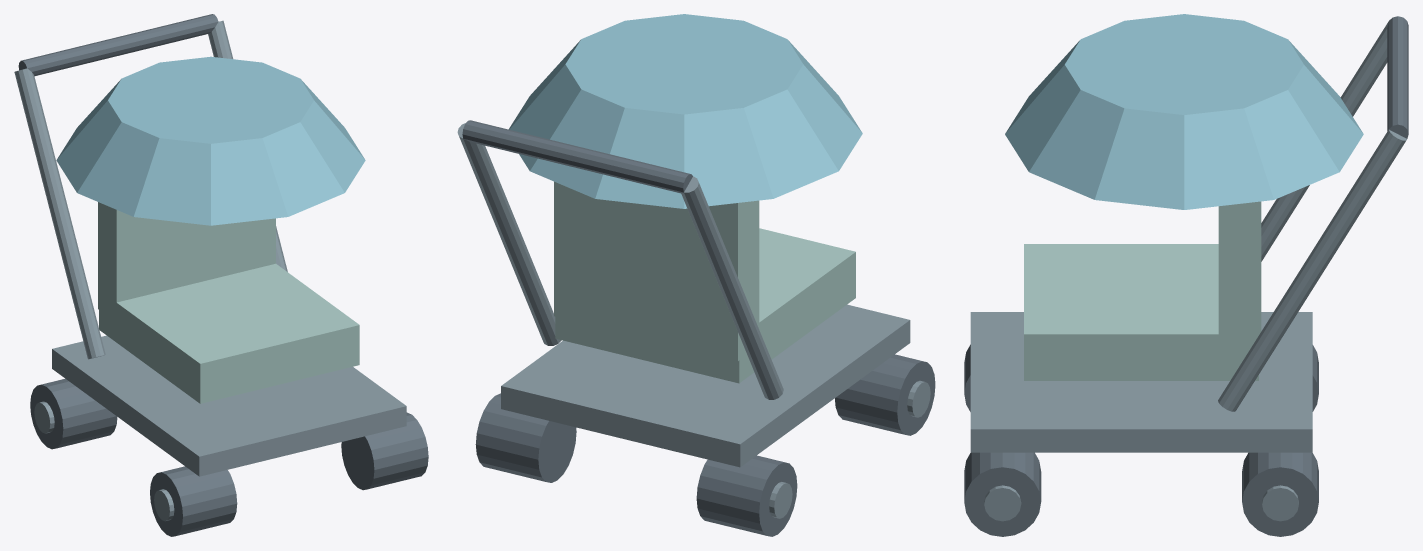
Rendered from stroller.glb.
3 views of the same model, side by side, from view 1: azimuth 30°, elevation 25°; view 2: azimuth 150°, elevation 25°; view 3: azimuth 270°, elevation 25° (orthographic). The views are drawn at different scales.
Visible parts, largest first — view 1: stroller_011, stroller_009, stroller_008, stroller_010, stroller_012, stroller_004, stroller_000, stroller_002, stroller_014, stroller_013, stroller_003, stroller_001; view 2: stroller_011, stroller_008, stroller_010, stroller_009, stroller_006, stroller_002, stroller_014, stroller_000, stroller_012, stroller_013, stroller_001, stroller_003; view 3: stroller_011, stroller_008, stroller_009, stroller_013, stroller_010, stroller_004, stroller_006, stroller_012, stroller_014, stroller_005, stroller_007.
Part boxes in pixels (x1,y1,x2,y2): stroller_011: [56, 56, 365, 225]; stroller_009: [99, 263, 359, 403]; stroller_008: [52, 335, 406, 476]; stroller_010: [98, 202, 275, 309]; stroller_012: [14, 68, 105, 359]; stroller_004: [341, 412, 428, 490]; stroller_000: [150, 466, 237, 536]; stroller_002: [30, 378, 117, 449]; stroller_014: [18, 14, 218, 76]; stroller_013: [208, 20, 287, 271]; stroller_003: [34, 401, 54, 433]; stroller_001: [154, 489, 174, 521]; stroller_011: [508, 14, 862, 208]; stroller_008: [501, 304, 910, 467]; stroller_010: [554, 181, 759, 360]; stroller_009: [555, 228, 855, 383]; stroller_006: [475, 393, 576, 482]; stroller_002: [696, 455, 797, 536]; stroller_014: [462, 120, 692, 193]; stroller_000: [835, 354, 935, 435]; stroller_012: [681, 176, 783, 399]; stroller_013: [457, 123, 561, 345]; stroller_001: [907, 380, 930, 417]; stroller_003: [769, 482, 792, 518]; stroller_011: [1005, 14, 1363, 209]; stroller_008: [970, 312, 1312, 452]; stroller_009: [1024, 244, 1258, 380]; stroller_013: [1218, 129, 1406, 411]; stroller_010: [1218, 201, 1261, 357]; stroller_004: [964, 452, 1041, 536]; stroller_006: [1242, 452, 1318, 536]; stroller_012: [1261, 19, 1390, 261]; stroller_014: [1387, 16, 1408, 138]; stroller_005: [984, 485, 1021, 521]; stroller_007: [1262, 485, 1298, 521].
Bounding box in the file's own units: 0.84 × 1.04 × 1.04.
